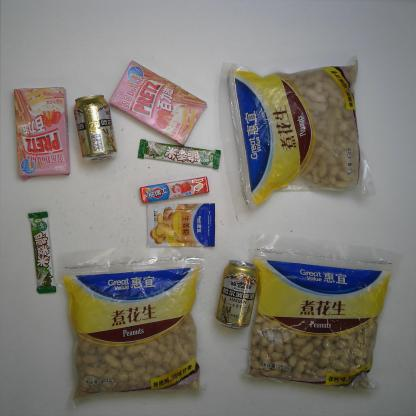Alcohol: (72, 90, 118, 163), (215, 257, 257, 332)
Candy: (137, 172, 211, 204)
Chocolate: (136, 139, 220, 170), (30, 210, 56, 294)
Dessert: (109, 61, 210, 146), (15, 86, 72, 180)
Dried Food: (217, 57, 374, 207), (62, 251, 204, 402), (252, 237, 389, 391)
Seasoner: (147, 200, 217, 251)
